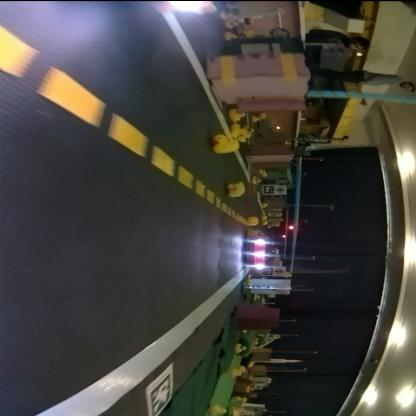Duckie: (214, 134, 239, 152), (228, 182, 246, 196), (210, 404, 228, 414), (232, 124, 246, 136), (230, 110, 244, 120), (240, 131, 251, 141), (247, 216, 259, 225), (225, 31, 235, 40), (236, 344, 246, 352), (245, 126, 255, 134), (248, 230, 258, 237), (254, 177, 262, 183), (259, 168, 267, 173)
Duckiebot: (247, 239, 272, 267)
Intersection sign: (276, 186, 286, 194)
QR code: (147, 365, 175, 415), (266, 186, 274, 193)
Traffic light: (282, 233, 288, 238)
